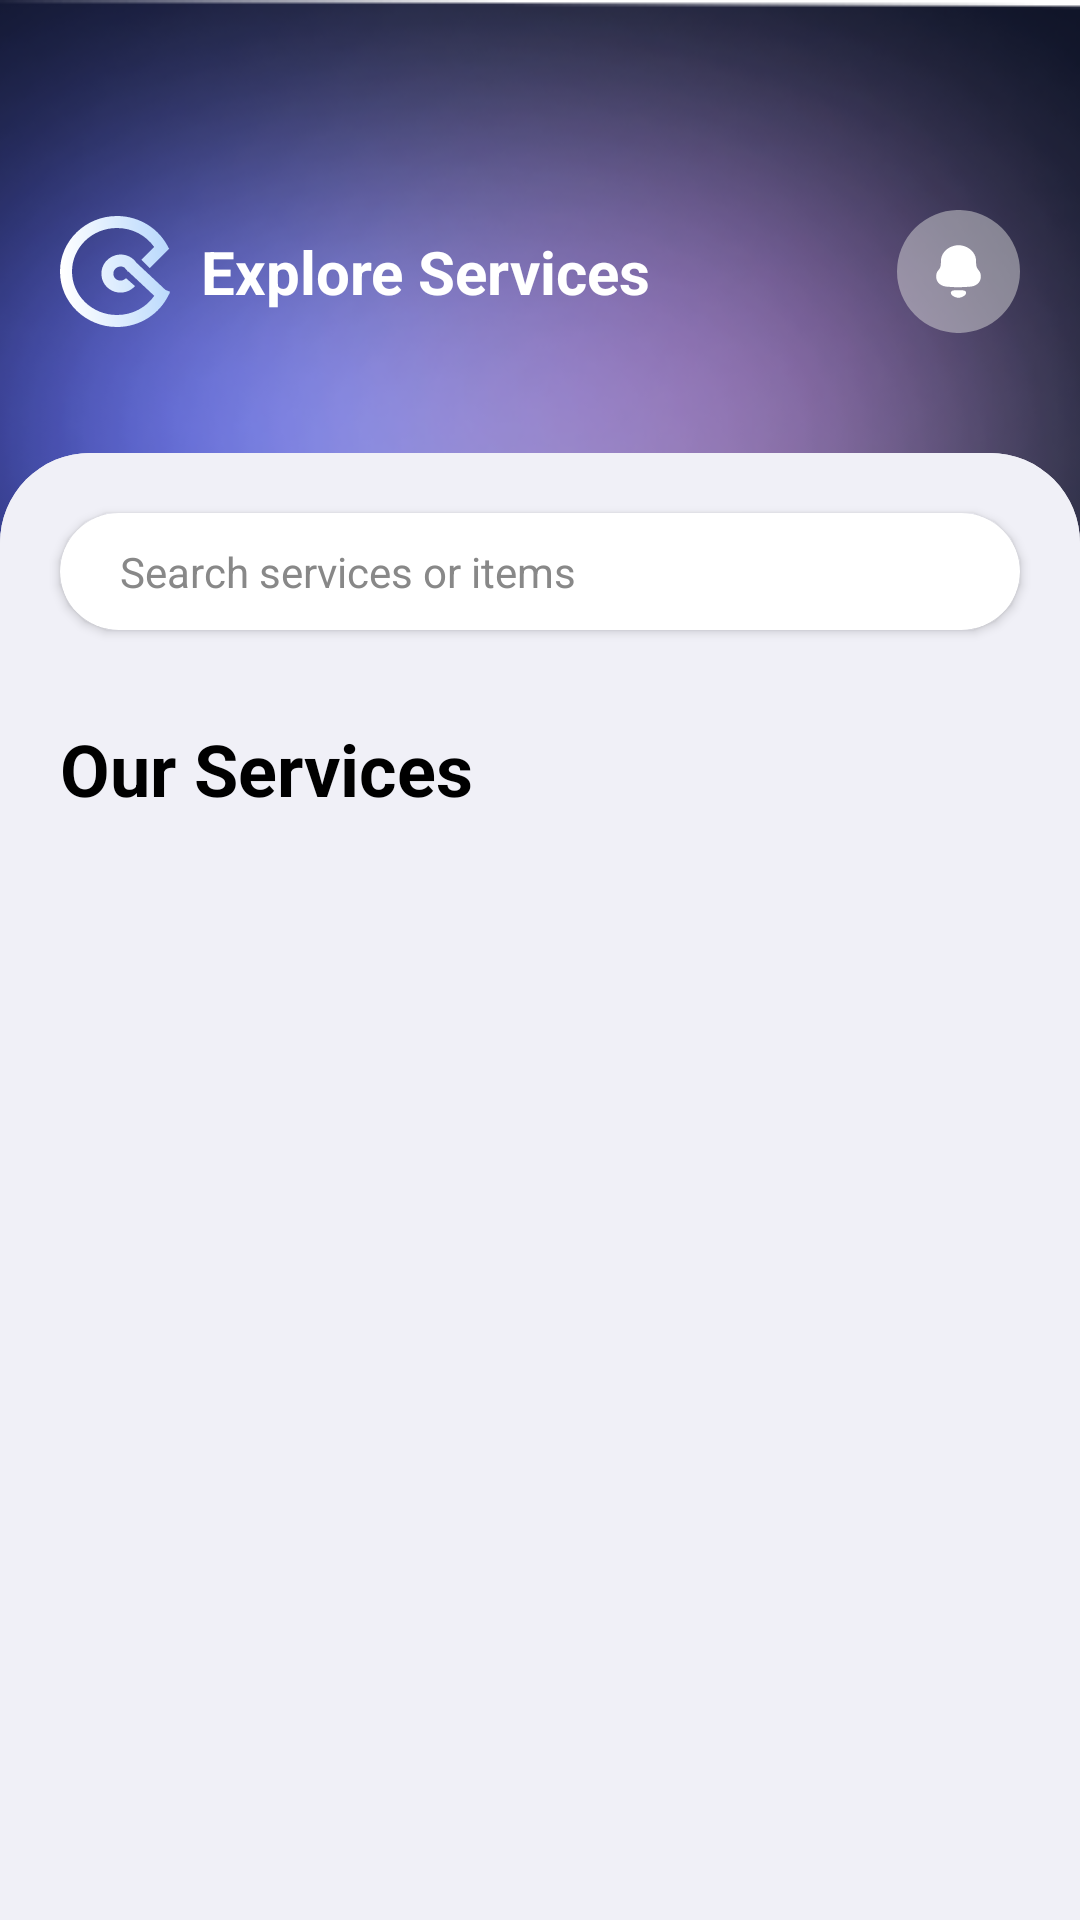

Named icons in this screenshot (1080*1920) and their bounding boxes, (x1=x1, y1=y1, x2=x2, y2=y2):
notifications: (x1=897, y1=210, x2=1020, y2=333)
